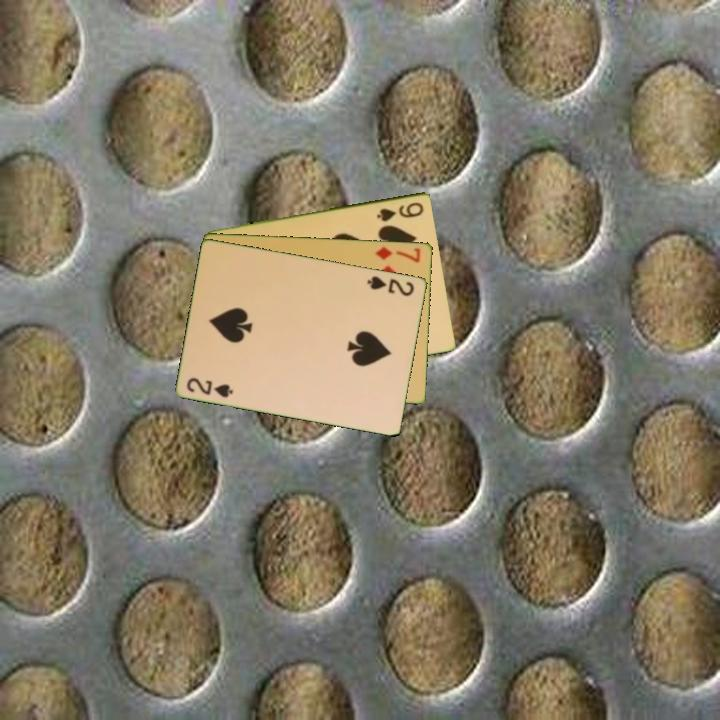2s: (364, 272, 417, 299), (183, 374, 236, 400)
7d: (372, 243, 423, 265)
9s: (373, 198, 427, 224)
